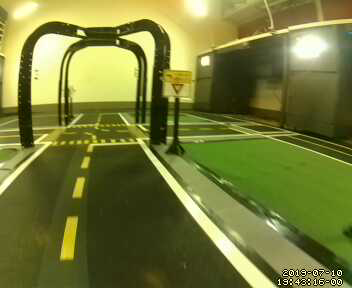Turn Yield: (162, 69, 192, 99)
